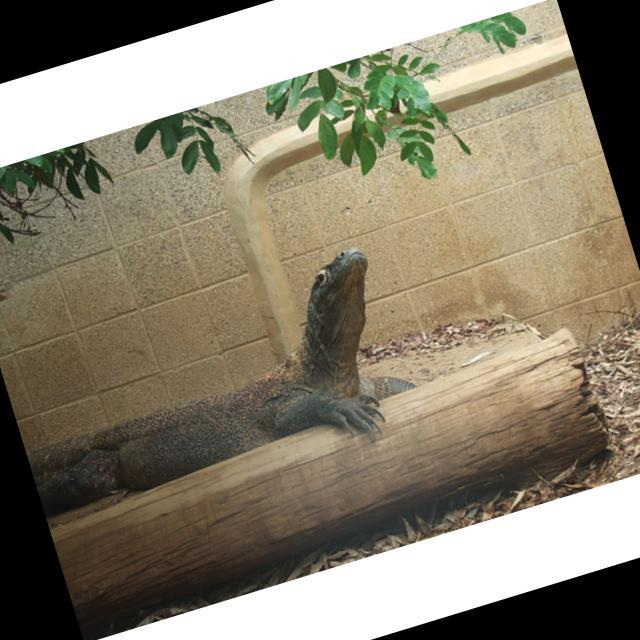KomodoDragon: (0, 236, 431, 540)
